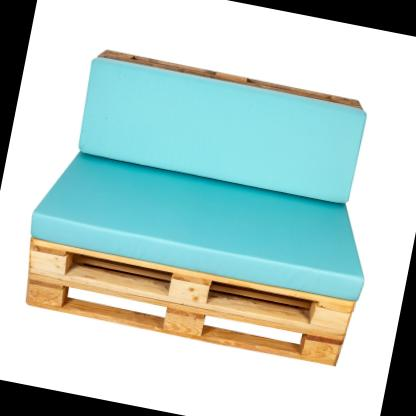BoxFace: (23, 235, 351, 338), (18, 273, 343, 364)
